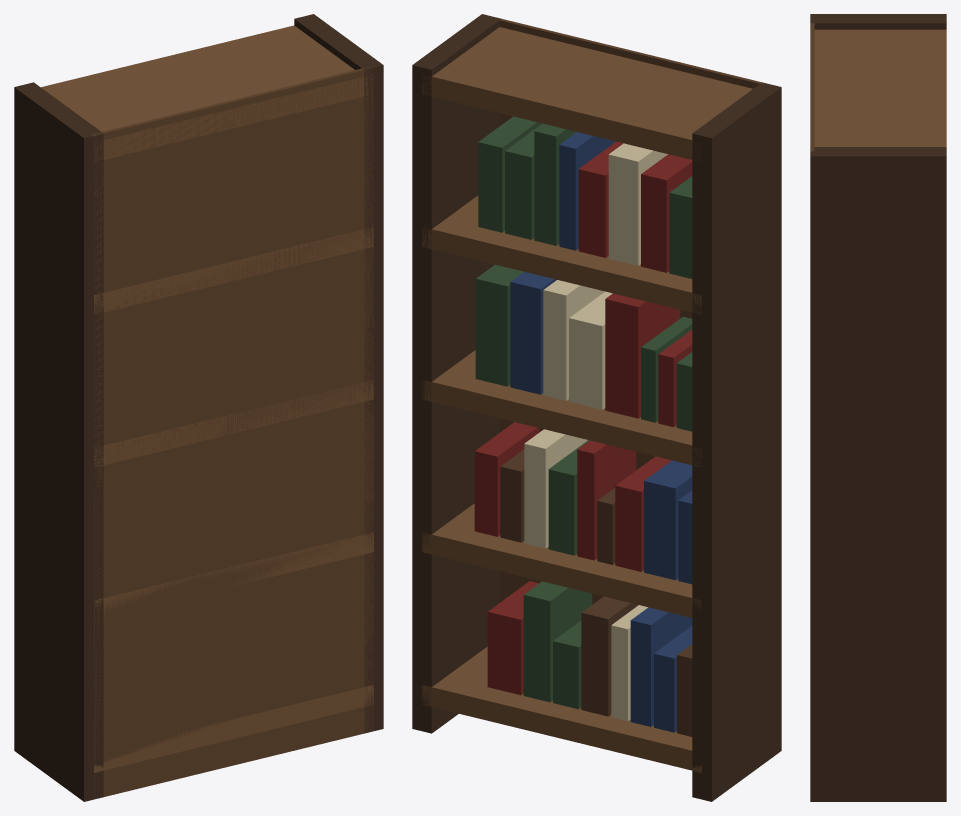
Rendered from SM_Wood_BookShelf_A.glb.
The picture shows the model from 3 angles, left to right: view 1: azimuth 30°, elevation 25°; view 2: azimuth 150°, elevation 25°; view 3: azimuth 270°, elevation 25°; orthographic projection. The views are drawn at different scales.
Visible parts, largest first — view 1: SM_Wood_BookShelf_A; view 2: SM_Wood_BookShelf_A; view 3: SM_Wood_BookShelf_A.
Part boxes in pixels (x1,y1,x2,y2): SM_Wood_BookShelf_A: (14, 14, 383, 801); SM_Wood_BookShelf_A: (412, 14, 781, 801); SM_Wood_BookShelf_A: (810, 14, 946, 801).
Size of the model in its own units: 0.816 by 1.73 by 0.33.
1 material, 1 textured.
